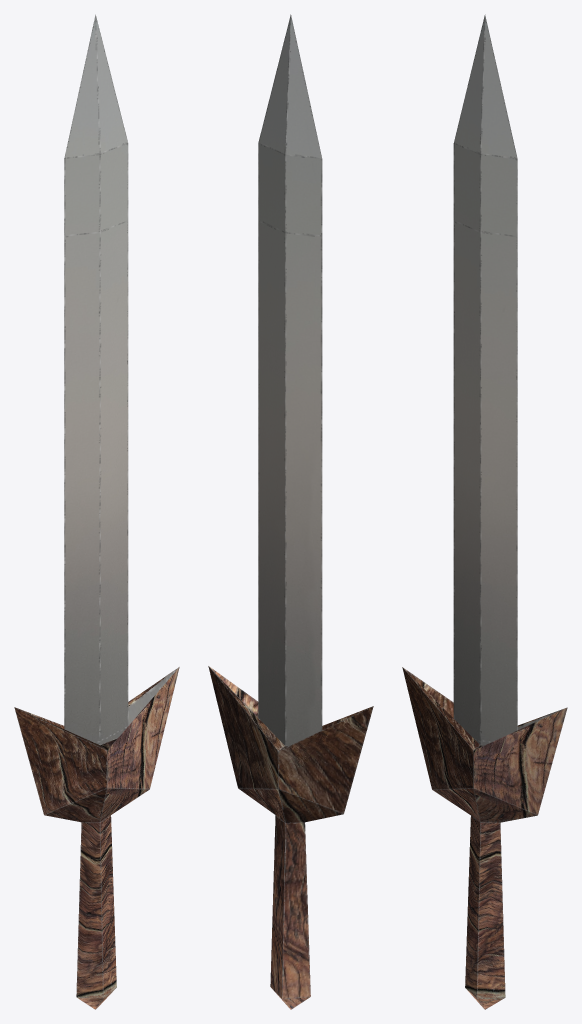
The model's file is Sword.fbx.
3 renders of one model, left to right at view 1: azimuth 30°, elevation 25°; view 2: azimuth 150°, elevation 25°; view 3: azimuth 330°, elevation 25°, orthographic.
Parts seen in each view (by area): view 1: SWORD3; view 2: SWORD3; view 3: SWORD3.
Boxes of the visible parts, x1,y1,x2,y2 form: SWORD3: (14,14,179,1009); SWORD3: (208,14,373,1009); SWORD3: (402,14,567,1009).
Size of the model in its own units: 22.9 by 132 by 5.79.
Materials: 1 (1 with a texture image).
